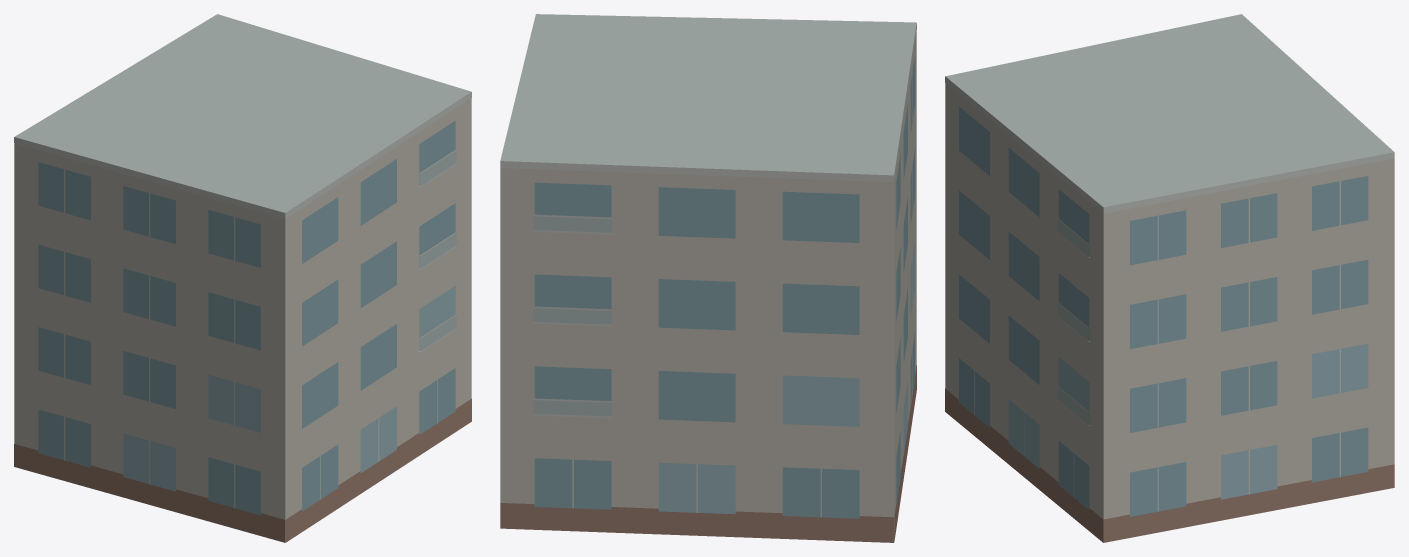
File: survey-upis-33017310.glb
The picture shows the model from 3 angles, left to right: view 1: azimuth 30°, elevation 25°; view 2: azimuth 150°, elevation 25°; view 3: azimuth 270°, elevation 25°; orthographic projection. The views are drawn at different scales.
Visible parts, largest first — view 1: survey-upis-33017310.tmp; view 2: survey-upis-33017310.tmp; view 3: survey-upis-33017310.tmp.
Part boxes in pixels (x1,y1,x2,y2): survey-upis-33017310.tmp: (14,14,471,542); survey-upis-33017310.tmp: (500,14,916,542); survey-upis-33017310.tmp: (945,14,1394,542).
Size of the model in its own units: 16.2 by 13.1 by 15.91.
